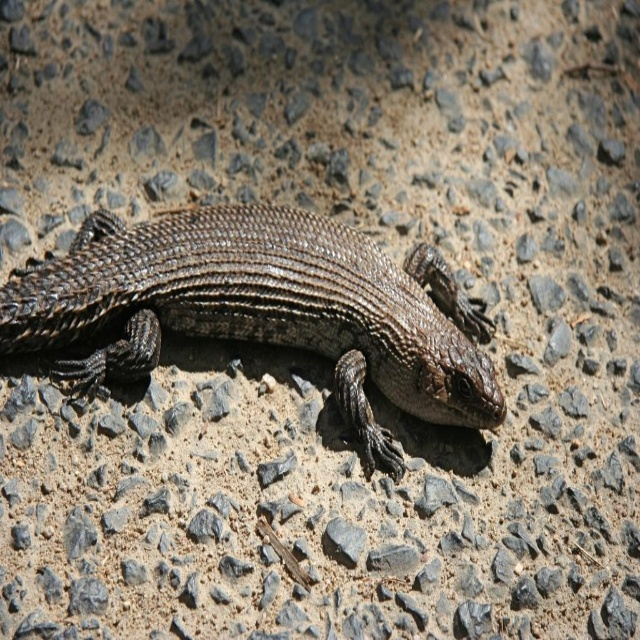Lizard: (0, 203, 507, 484)
